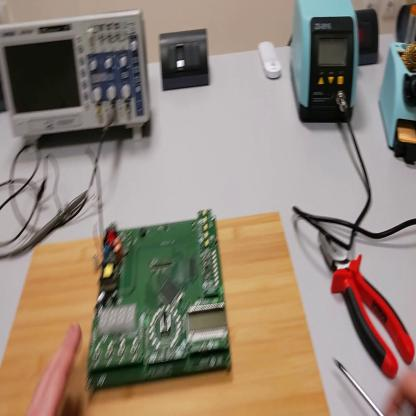hand: (25, 323, 83, 416), (386, 365, 416, 414)
low voltage board: (81, 155, 233, 399)
oscilloscope: (2, 7, 153, 157)
oscilloscope probe tip: (11, 188, 89, 258)
pliers: (320, 220, 415, 380)
screwdriver-: (334, 356, 383, 416)
socket: (355, 9, 384, 67), (395, 2, 416, 48), (3, 76, 9, 117)
welder base: (381, 4, 416, 166)
welder station: (291, 2, 360, 125)
working area: (2, 209, 333, 415)
